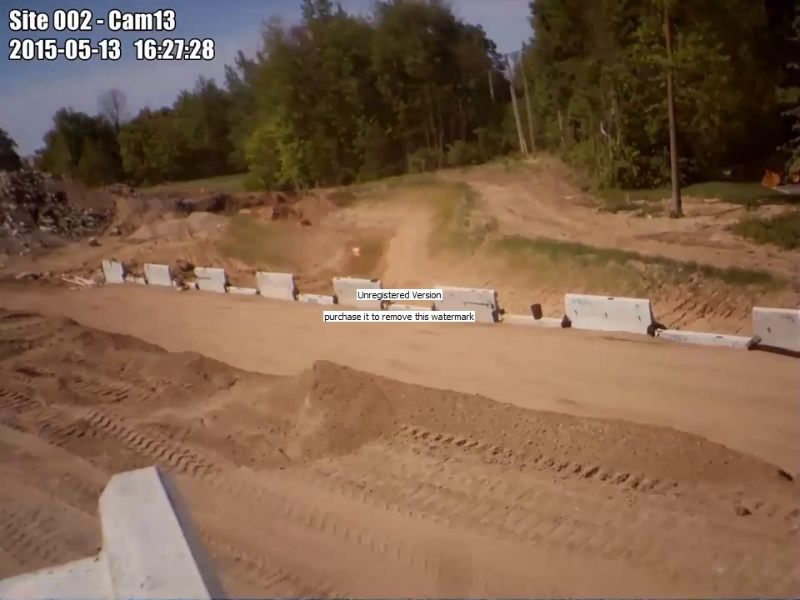wall: (101, 258, 800, 356)
